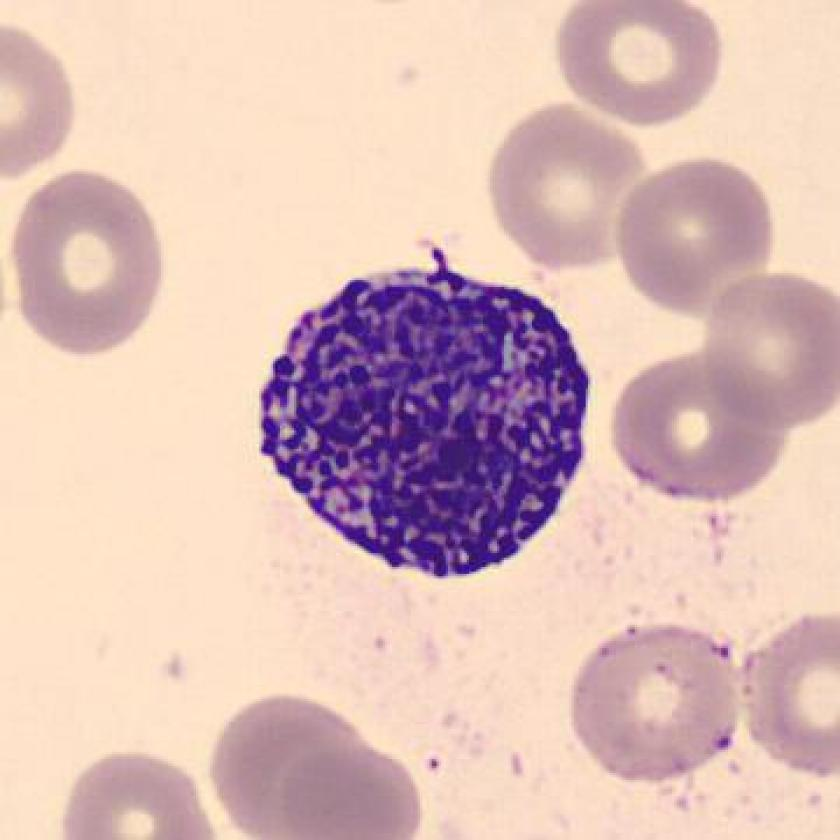basophil: (251, 256, 603, 591)
